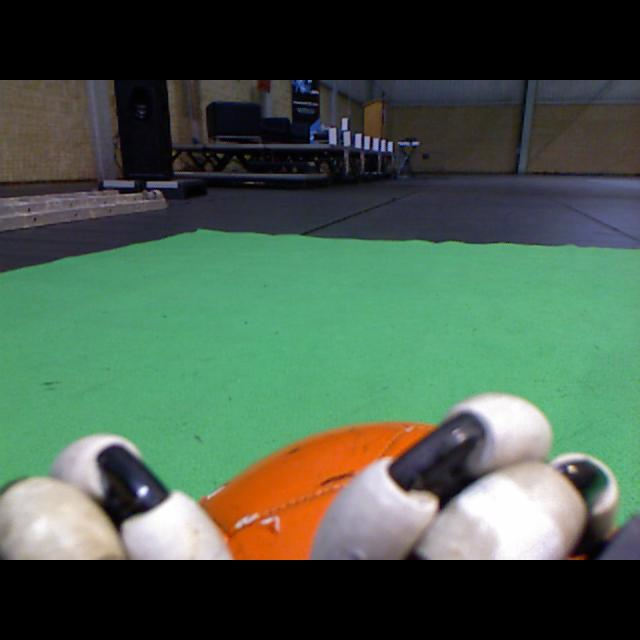ball: (197, 421, 437, 558)
